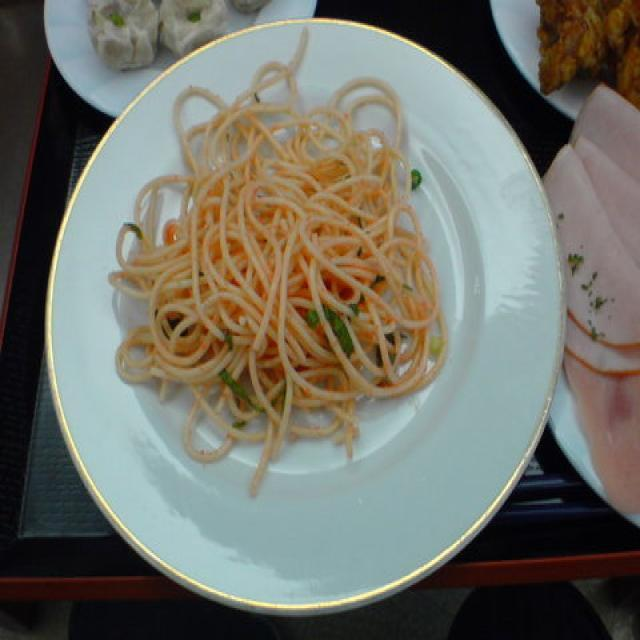Pasta: (130, 81, 442, 452)
